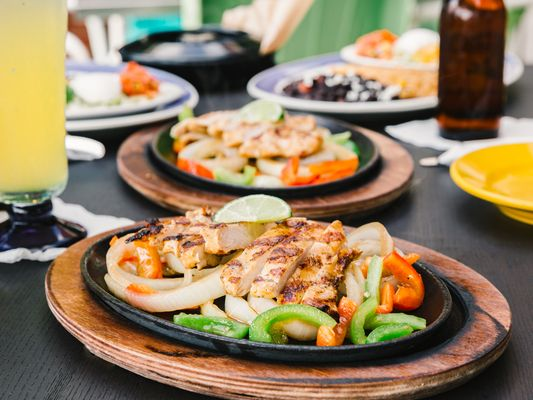pizza: (0, 1, 78, 217), (435, 0, 507, 141)
